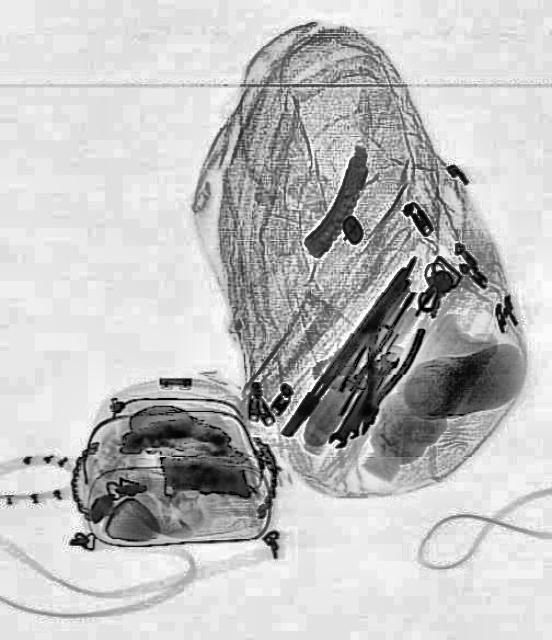Pliers: (338, 310, 426, 442)
Wrench: (326, 344, 400, 452)
